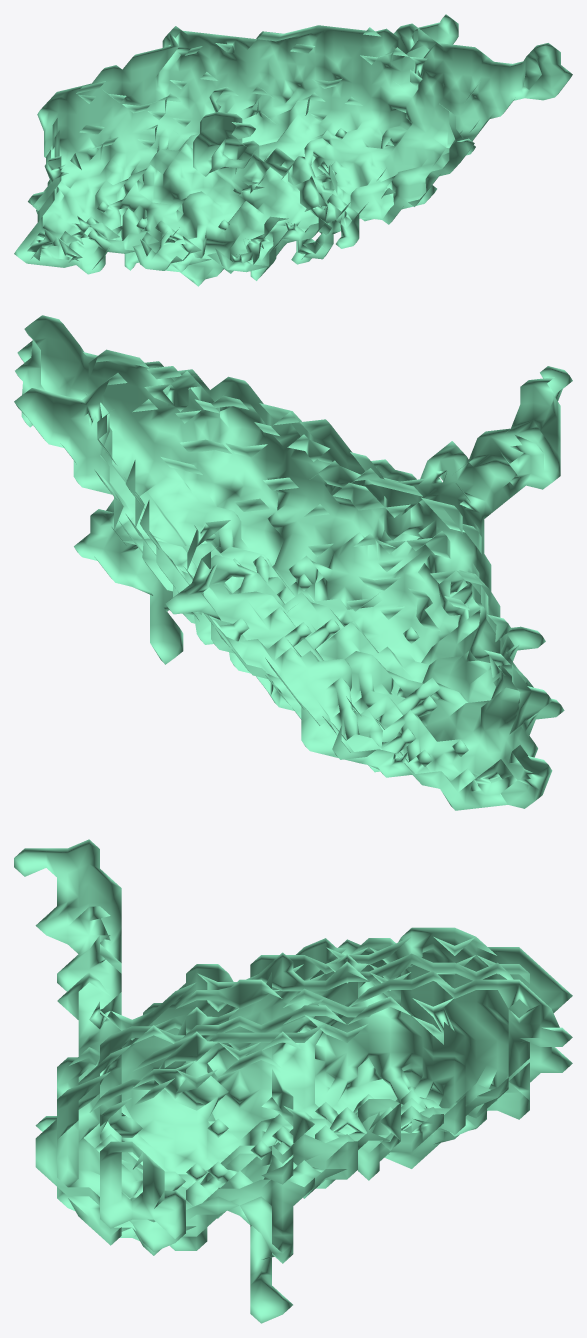
File: osteocyte_91.glb
The picture shows the model from 3 angles, top to bottom: view 1: azimuth 30°, elevation 25°; view 2: azimuth 150°, elevation 25°; view 3: azimuth 270°, elevation 25°; orthographic projection. The views are drawn at different scales.
Visible parts, largest first — view 1: osteocyte_91; view 2: osteocyte_91; view 3: osteocyte_91.
Boxes of the visible parts, x1,y1,x2,y2 form: osteocyte_91: (14, 14, 572, 286); osteocyte_91: (14, 315, 572, 810); osteocyte_91: (14, 839, 572, 1323).
Size of the model in its own units: 18.78 by 8.67 by 12.52.
